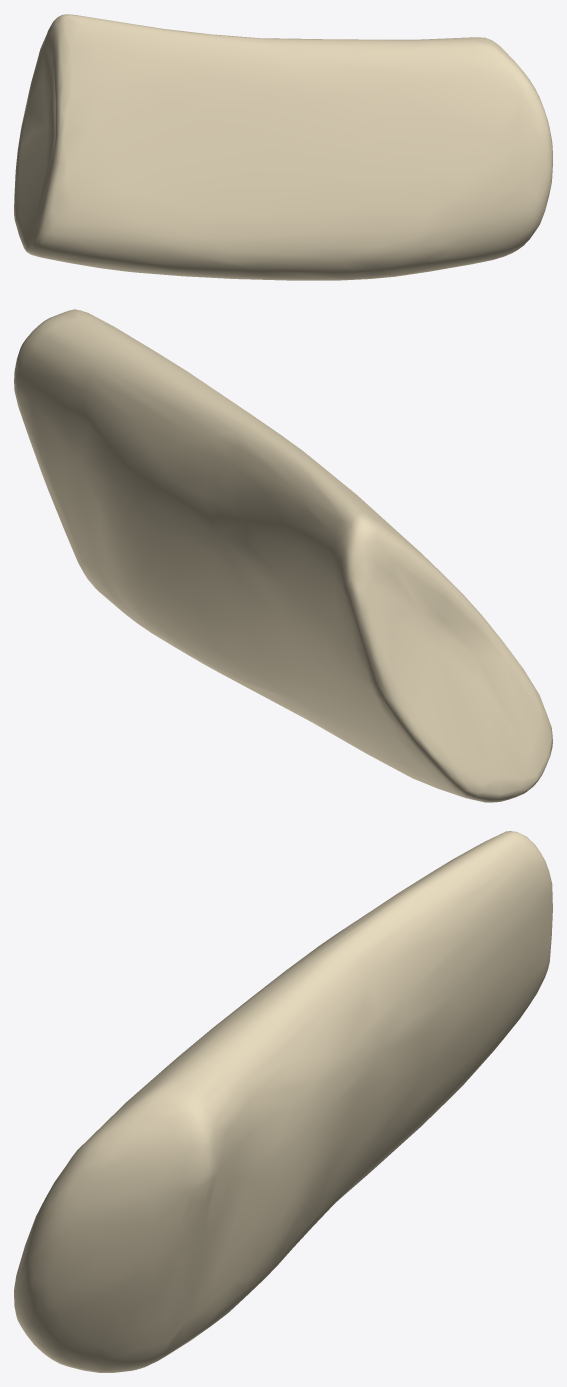
File: esqueleto-costal-cartilage-of-second-rib-r.glb
3 renders of one model, top to bottom at view 1: azimuth 30°, elevation 25°; view 2: azimuth 150°, elevation 25°; view 3: azimuth 270°, elevation 25°, orthographic. The views are drawn at different scales.
Parts seen in each view (by area): view 1: Costal cartilage of second rib.r; view 2: Costal cartilage of second rib.r; view 3: Costal cartilage of second rib.r.
Boxes of the visible parts, bbox=[...] form: Costal cartilage of second rib.r: bbox=[14, 14, 552, 280]; Costal cartilage of second rib.r: bbox=[14, 309, 552, 802]; Costal cartilage of second rib.r: bbox=[14, 831, 552, 1372].
Bounding box in the file's own units: 0.0333 × 0.0167 × 0.0243.
